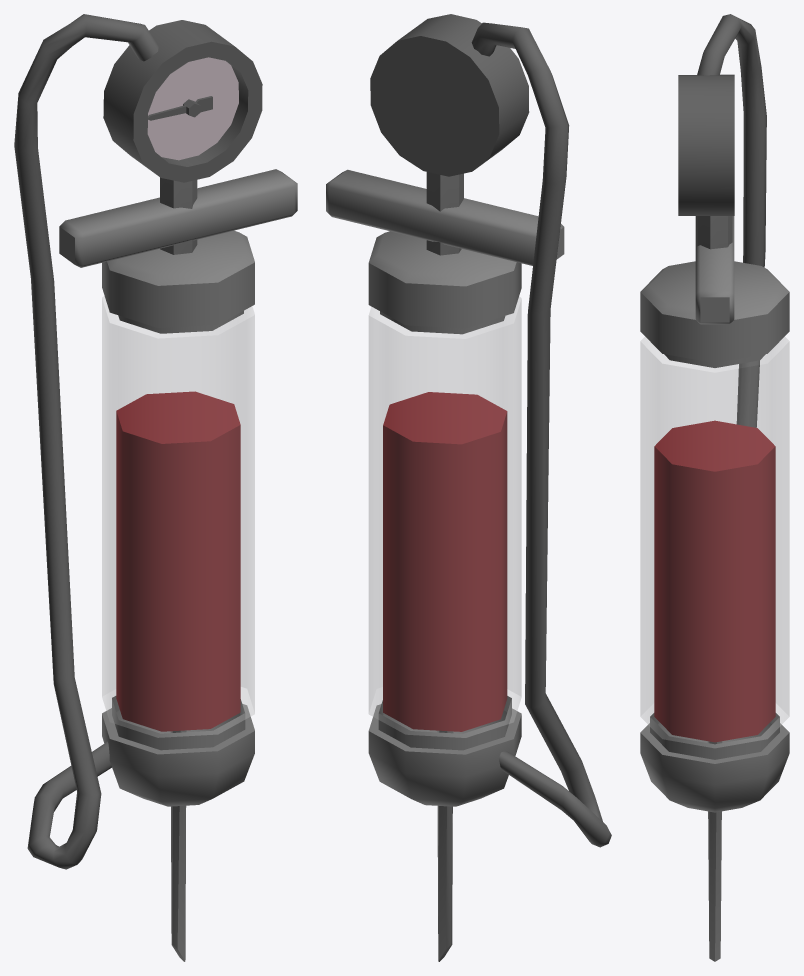
File: forca.fbx
3 renders of one model, left to right at view 1: azimuth 30°, elevation 25°; view 2: azimuth 150°, elevation 25°; view 3: azimuth 270°, elevation 25°, orthographic. The views are drawn at different scales.
Parts seen in each view (by area): view 1: Força; view 2: Força; view 3: Força.
Part boxes in pixels (x1,y1,x2,y2): Força: [14, 14, 297, 961]; Força: [326, 14, 611, 961]; Força: [640, 14, 789, 961].
Bounding box in the file's own units: 7.02 × 24.12 × 3.6.
